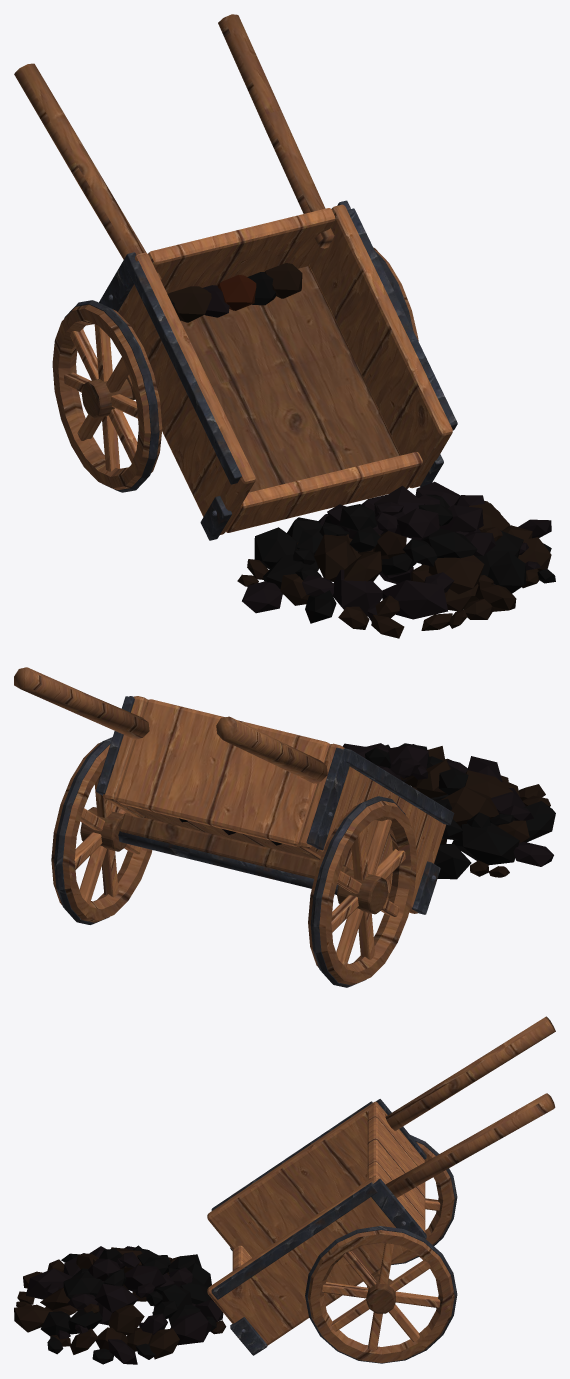
File: cf_slag_cart_tipped.glb
The picture shows the model from 3 angles, top to bottom: view 1: azimuth 30°, elevation 25°; view 2: azimuth 150°, elevation 25°; view 3: azimuth 270°, elevation 25°; orthographic projection. The views are drawn at different scales.
Parts seen in each view (by area): view 1: model; view 2: model; view 3: model.
Boxes of the visible parts, left/top/right/bottom form: model: left=14, top=14, right=555, bottom=638; model: left=14, top=667, right=555, bottom=987; model: left=14, top=1016, right=555, bottom=1364.
Bounding box in the file's own units: 0.8993 × 0.9471 × 1.79.
Materials: 10 (6 with a texture image).
